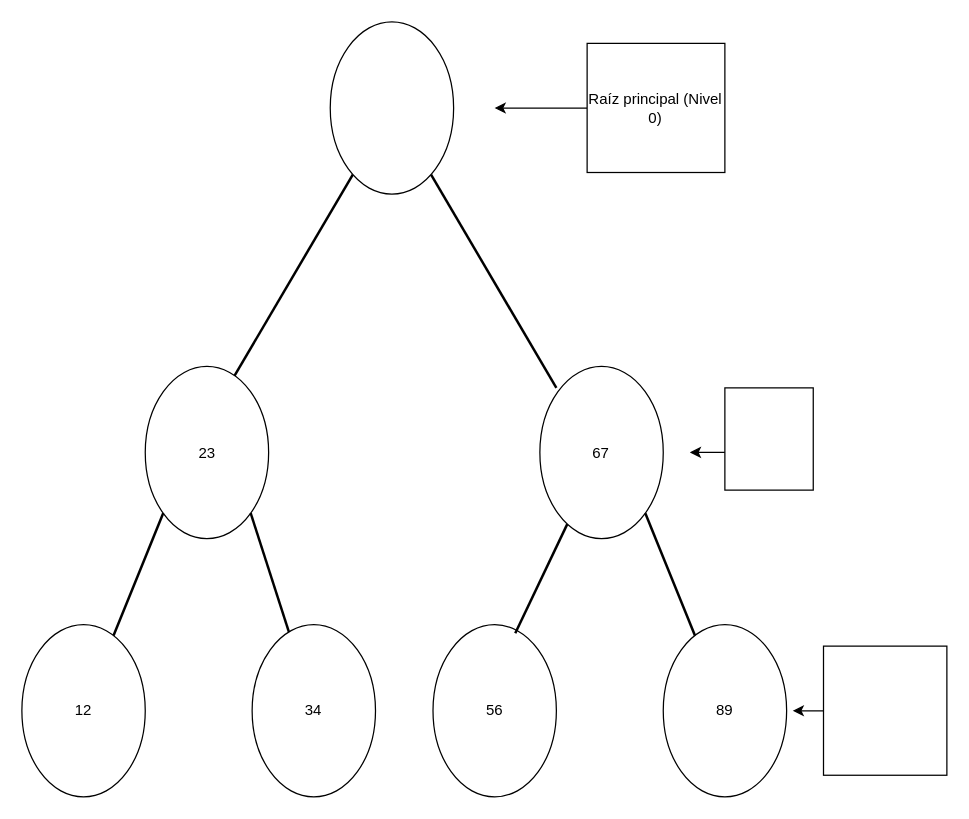
Some shapes in this 969 by 819 pixel diagram are drawn without their labels. The box of each missing label's shape, as (x1, y1, x2, y2) in pixels:
Nodos Hoja / Terminales (Nivel 2): (822, 645, 947, 775)
Nodos internos (Nivel 1): (724, 387, 813, 490)
Raíz: (329, 21, 454, 194)
